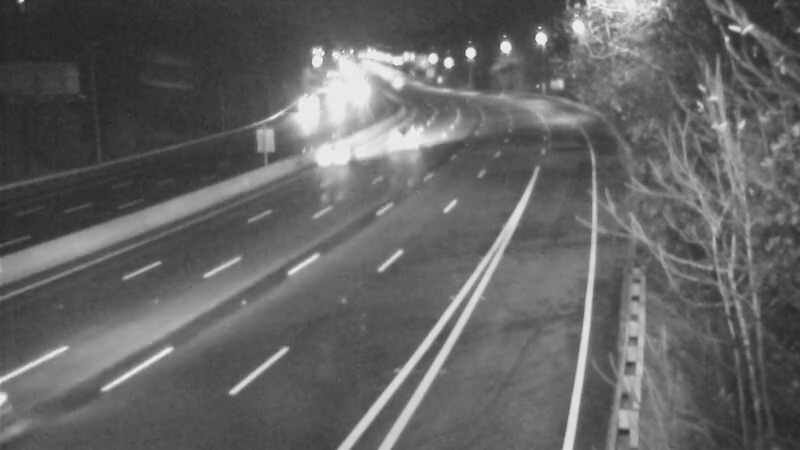vehicle: (302, 114, 382, 194), (369, 56, 419, 106), (377, 114, 427, 164), (279, 85, 329, 135)
